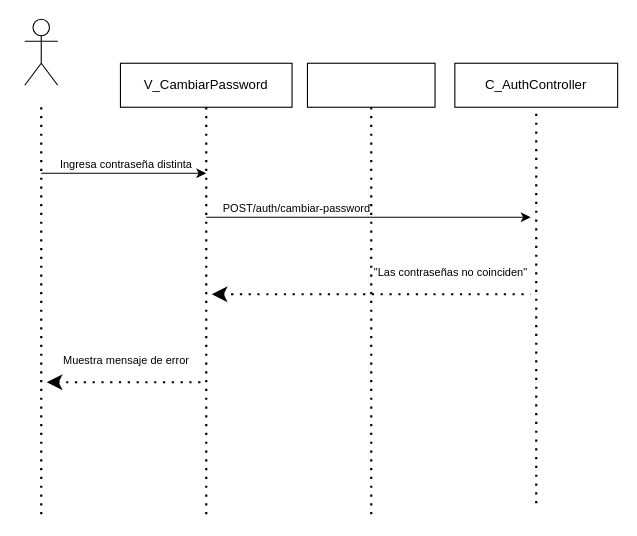
Image size: 637x536. Some labels were removed from this diagram. Here are the shapes that lost their labels. From the top down, the box of each, then its label:
(24, 18, 58, 85): Usuario
(306, 62, 435, 107): JwtAuthGuard
